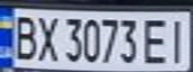0: (81, 16, 103, 64)
3: (60, 14, 84, 63), (118, 16, 142, 65)
7: (100, 16, 121, 64)
B: (9, 11, 39, 61)
E: (139, 16, 172, 65)
I: (163, 15, 193, 65)
X: (33, 12, 60, 62)
